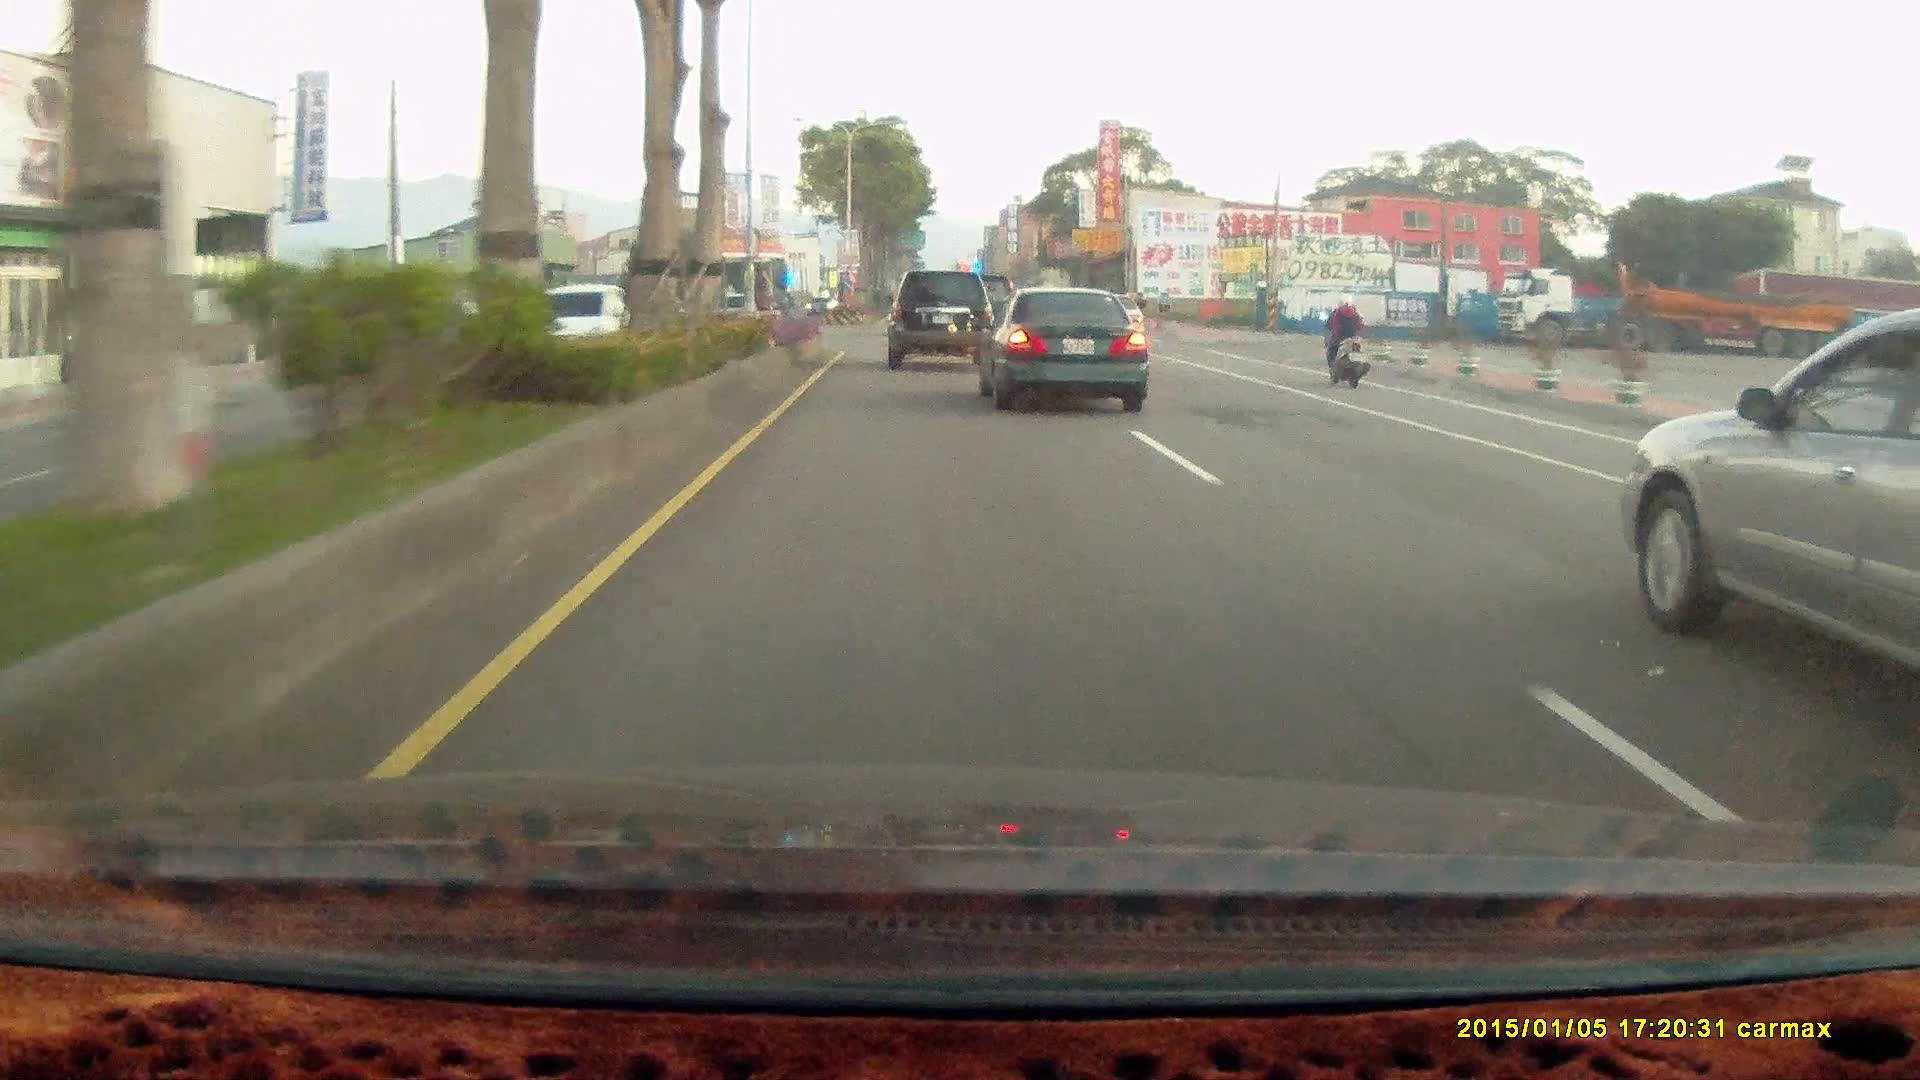rider: (1314, 289, 1375, 394), (1314, 292, 1370, 388)
vehicle: (1633, 304, 1920, 699), (1493, 264, 1851, 357), (972, 283, 1148, 411), (978, 288, 1148, 410), (887, 266, 998, 368), (882, 272, 992, 373), (518, 282, 632, 363)
